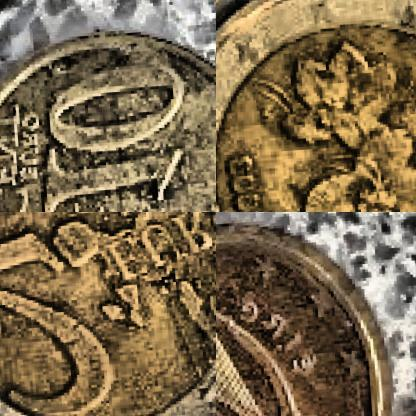coin: (0, 212, 215, 415), (216, 0, 415, 211), (0, 17, 215, 211), (216, 214, 402, 415)
